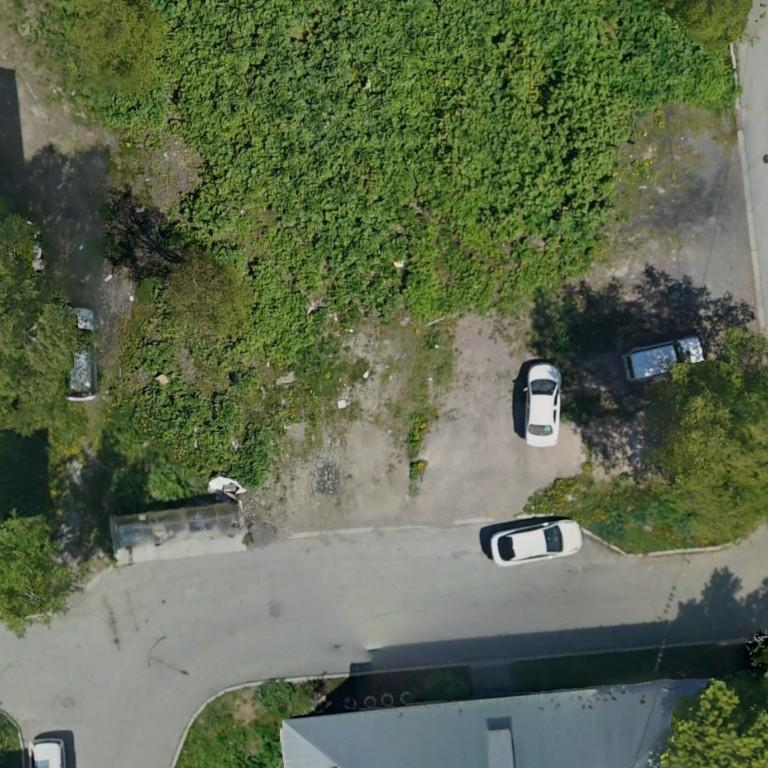hogweed: (107, 0, 727, 358), (137, 384, 269, 483), (140, 342, 177, 375), (231, 367, 263, 396)
